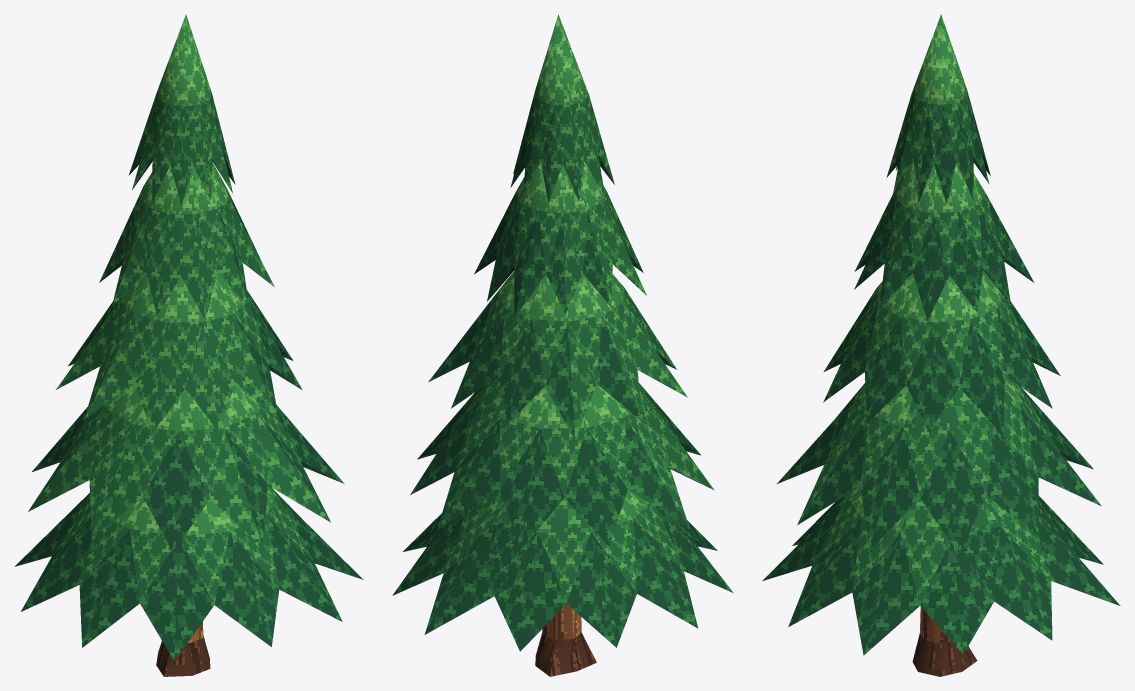
The model's file is tree_pine_a.glb.
The picture shows the model from 3 angles, left to right: view 1: azimuth 30°, elevation 25°; view 2: azimuth 150°, elevation 25°; view 3: azimuth 270°, elevation 25°; orthographic projection.
Visible parts, largest first — view 1: tree_pine_a; view 2: tree_pine_a; view 3: tree_pine_a.
Part boxes in pixels (x1,y1,x2,y2): tree_pine_a: (14, 14, 363, 676); tree_pine_a: (392, 14, 733, 676); tree_pine_a: (762, 14, 1120, 676).
Size of the model in its own units: 3.68 by 7.65 by 3.82.
Materials: 1 (1 with a texture image).
